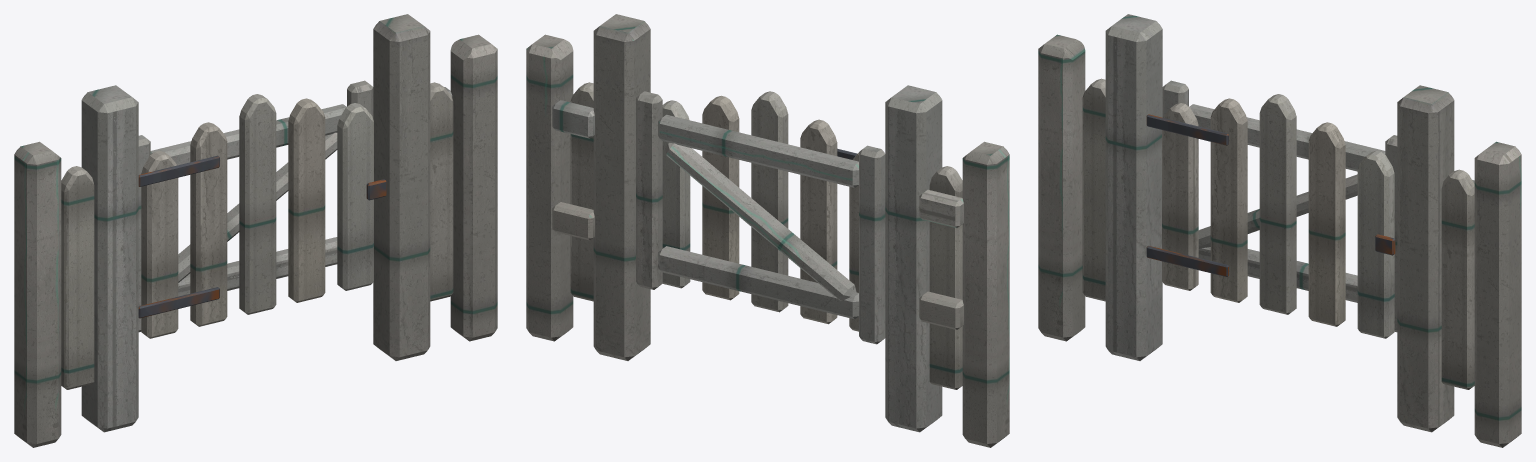
Rendered from bahce_kapisi.glb.
The picture shows the model from 3 angles, left to right: view 1: azimuth 30°, elevation 25°; view 2: azimuth 150°, elevation 25°; view 3: azimuth 330°, elevation 25°; orthographic projection.
Visible parts, largest first — view 1: bahce_kapisi, Kanat; view 2: bahce_kapisi, Kanat; view 3: bahce_kapisi, Kanat.
Part boxes in pixels (<box>): bahce_kapisi: <box>14,14,497,447</box>; Kanat: <box>138,80,386,338</box>; bahce_kapisi: <box>526,14,1009,447</box>; Kanat: <box>636,91,885,344</box>; bahce_kapisi: <box>1038,14,1521,447</box>; Kanat: <box>1146,80,1397,338</box>.
Size of the model in its own units: 3 by 2 by 0.28.
1 material, 1 textured.
